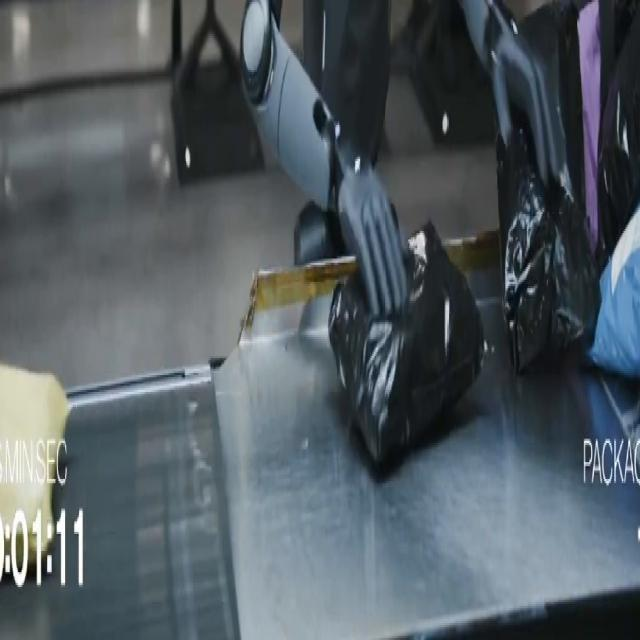package: (329, 223, 485, 466), (497, 5, 599, 372), (0, 365, 70, 567), (598, 15, 639, 267), (590, 208, 639, 379), (578, 3, 600, 252)
